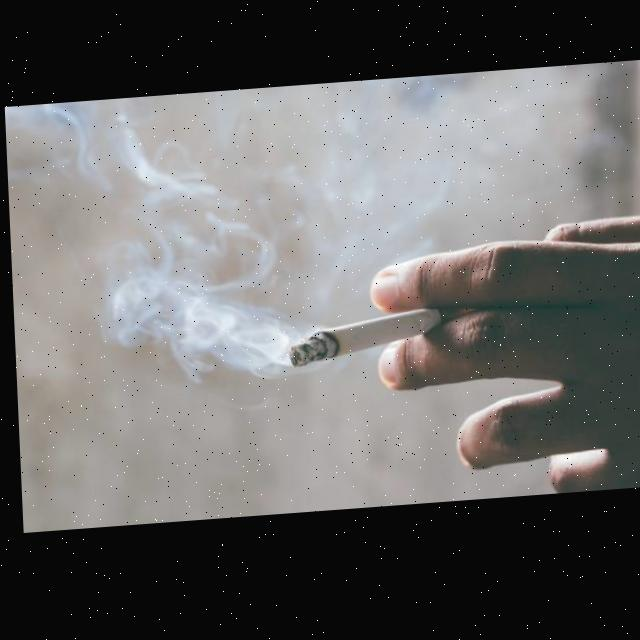cigarette: (285, 314, 443, 374)
